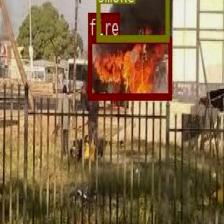fire: (88, 36, 172, 98)
smoke: (96, 0, 168, 40)
